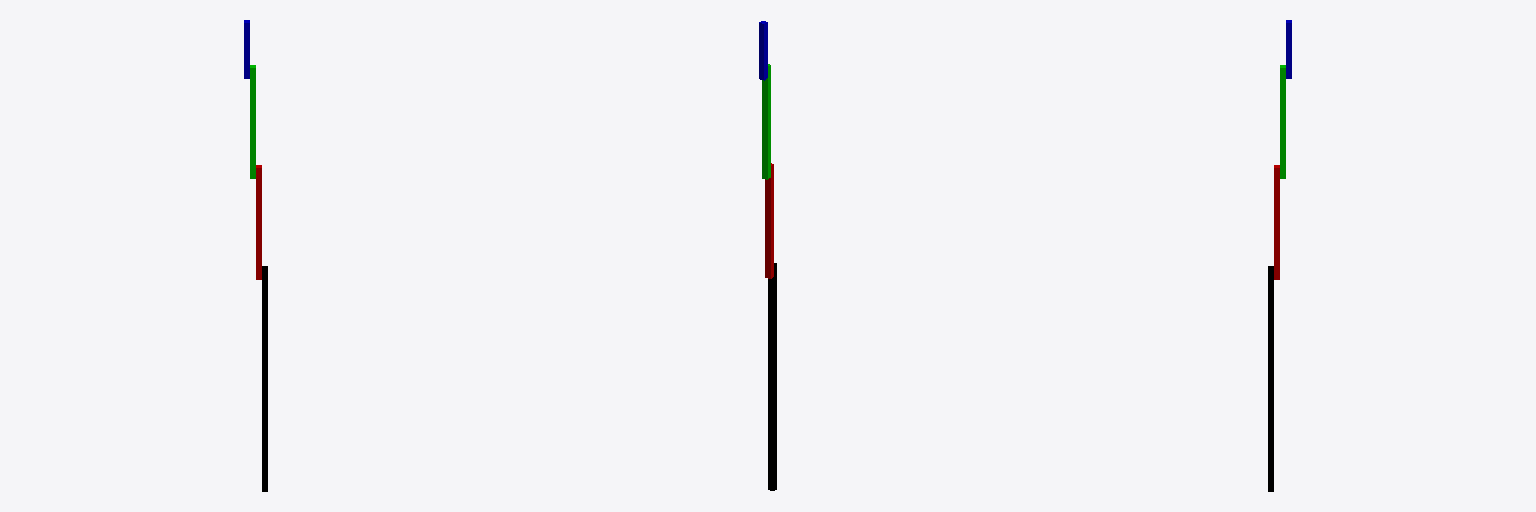
The robot description file, URDF, robot "rrbot":
<?xml version="1.0"?>
<robot name="rrbot">

  <!-- define the colors -->
  <material name="black">
    <color rgba="0.0 0.0 0.0 1.0" />
  </material>
  <material name="red">
    <color rgba="0.8 0.0 0.0 1.0" />
  </material>
  <material name="green">
    <color rgba="0.0 0.8 0.0 1.0" />
  </material>
  <material name="blue">
    <color rgba="0.0 0.0 0.8 1.0" />
  </material>
  
  <!-- create link fixed to the "world" -->
  <link name="world" />

  <!-- joint from "world" to "base_link"-->
  <joint name="base_joint" type="fixed">
    <origin rpy="0 0 0" xyz="0 0 0" />
    <parent link="world" />
    <child link="base_link" />
  </joint>

  <!-- Base Link -->
  <link name="base_link">
    <visual>
      <origin rpy="0 0 0" xyz="0 0 1.0" />
      <geometry>
        <box size="0.05 0.05 2" />
      </geometry>
      <material name="black" />
    </visual>
  </link>

  <!-- Joint 1 -->
  <joint name="joint1" type="revolute">
    <parent link="base_link" />
    <child link="link1" />
    <!-- offset by 5cm in y axis -->
    <origin rpy="0 0 0" xyz="0 0.05 1.95" />
    <limit effort="100" lower="-1.57" upper="1.57" velocity="1.0" />
    <axis xyz="0 1 0" />
  </joint>

  <!-- Link 1 -->
  <link name="link1">
    <visual>
      <origin rpy="0 0 0" xyz="0 0 0.45" />
      <geometry>
        <box size="0.05 0.05 1" />
      </geometry>
      <material name="red" />
    </visual>
  </link>

  <!-- Joint 2 -->
  <joint name="joint2" type="revolute">
    <parent link="link1" />
    <child link="link2" />
    <!-- offset by 5cm in y axis -->
    <origin rpy="0 0 0" xyz="0 0.05 0.9" />
    <limit effort="100" lower="-1.57" upper="1.57" velocity="1.0" />
    <axis xyz="0 1 0" />
  </joint>

  <!-- Link 2 -->
  <link name="link2">
    <visual>
      <origin rpy="0 0 0" xyz="0 0 0.45" />
      <geometry>
        <box size="0.05 0.05 1" />
      </geometry>
      <material name="green" />
    </visual>
  </link>

 

  <!-- Joint 3 -->
  <joint name="joint3" type="revolute">
    <parent link="link2" />
    <child link="link3" />
    <!-- offset by 5cm in y axis -->
    <origin rpy="0 0 0" xyz="0 0.05 0.9" />
    <limit effort="100" lower="-1.57" upper="1.57" velocity="1.0" />
    <axis xyz="0 1 0" />
  </joint>

  <!-- Link 3 -->
  <link name="link3">
    <visual>
      <origin rpy="0 0 0" xyz="0 0 0.2" />
      <geometry>
        <box size="0.05 0.05 0.5" />
      </geometry>
      <material name="blue" />
    </visual>
  </link>

  <!-- joint from link3 to tool0 -->
  <joint name="tool_joint" type="fixed">
    <origin rpy="0 0 0" xyz="0 0 0.45" />
    <parent link="link3" />
    <child link="tool0" />
  </joint>

  <!-- Tool Link -->
  <link name="tool0" />
  
</robot>

--- Facts derived from the render (not from the file) ---
3 views of the same robot in one strip: view 1: azimuth 90°, elevation 25°; view 2: azimuth 150°, elevation 25°; view 3: azimuth 270°, elevation 25° (orthographic).
Robot: rrbot — 6 links, 5 joints (3 revolute, 2 fixed); root link world; default pose: all joints at 0.
Links seen in each view (by area): view 1: base_link, link1, link2; view 2: base_link, link1, link2; view 3: base_link, link1, link2.
Boxes of the visible links, x1,y1,x2,y2 form: base_link: (262,266,267,491); link1: (256,165,261,279); link2: (250,65,255,178); base_link: (768,263,776,490); link1: (765,163,773,278); link2: (762,64,770,179); base_link: (1268,266,1273,491); link1: (1274,165,1279,279); link2: (1280,65,1285,178).
Bounding box of the posed robot: 0.05 × 0.2 × 4.2 m (x, y, z).
Geometry: primitives only (box / cylinder / sphere), no mesh files.
